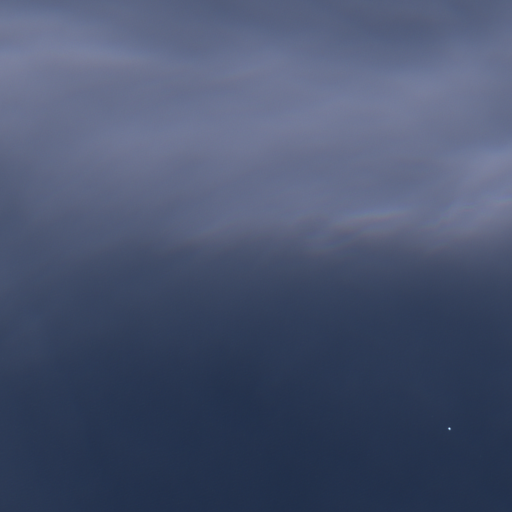Iceberg: (448, 427, 450, 430)
